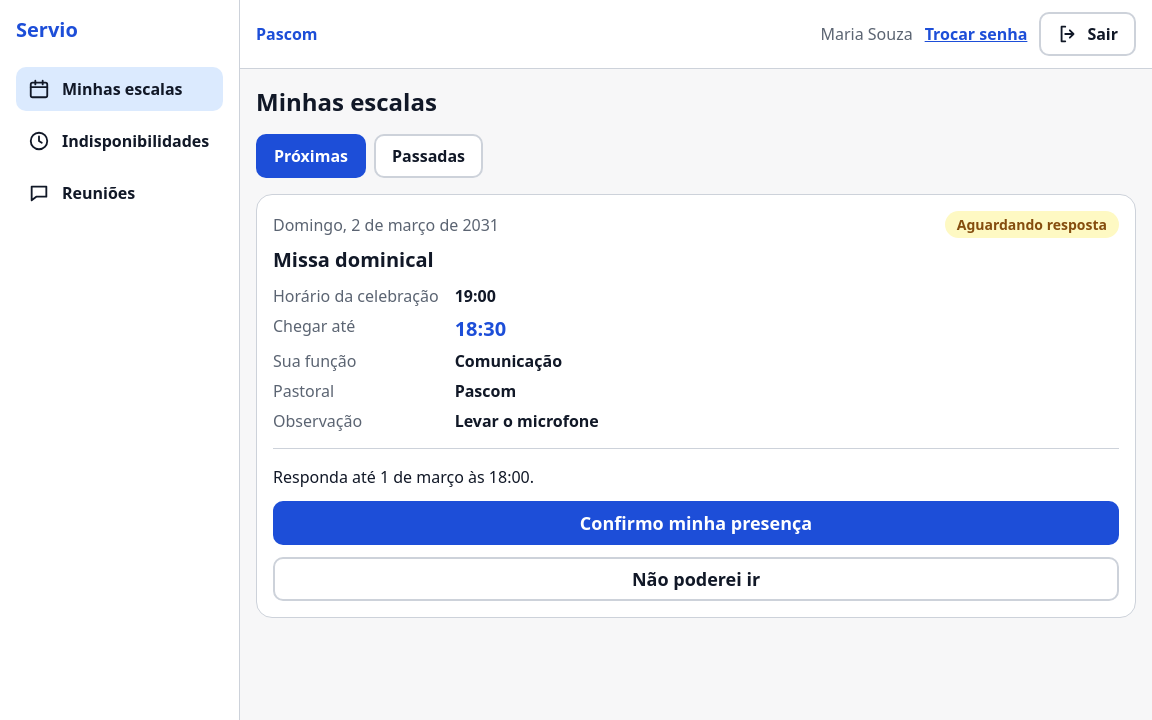
Minhas escalas › confirmar envia aceitar=true para a alocação certa e avisa
This screenshot has width=1152, height=720.
Click the button "Confirmo minha presença": (696, 523) 273,501 -> 1119,545
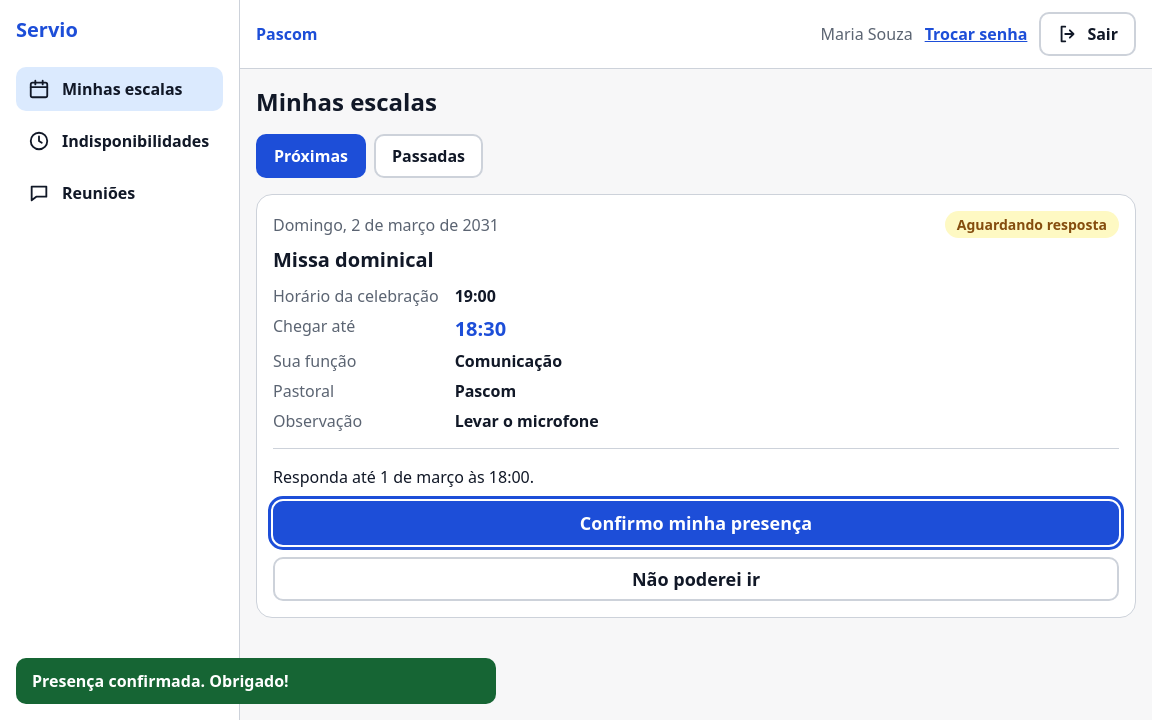
Result: the text "Presença confirmada. Obrigado!" is shown at 16,658 -> 496,704
